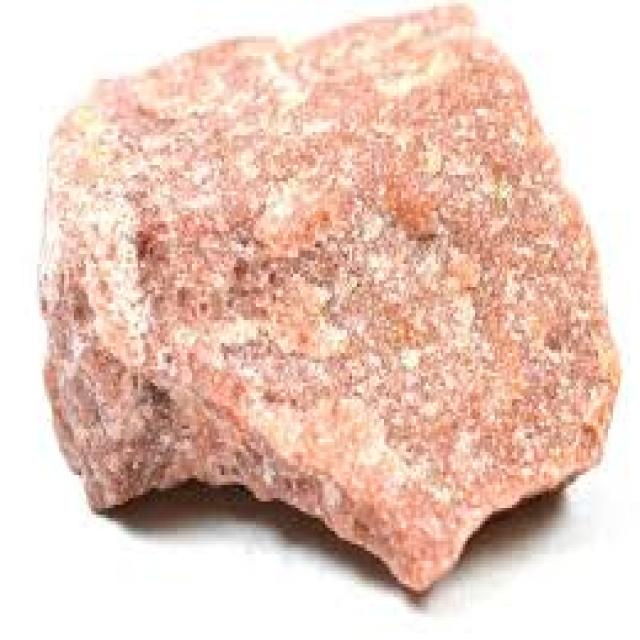Metamorphic: (17, 3, 613, 584)
